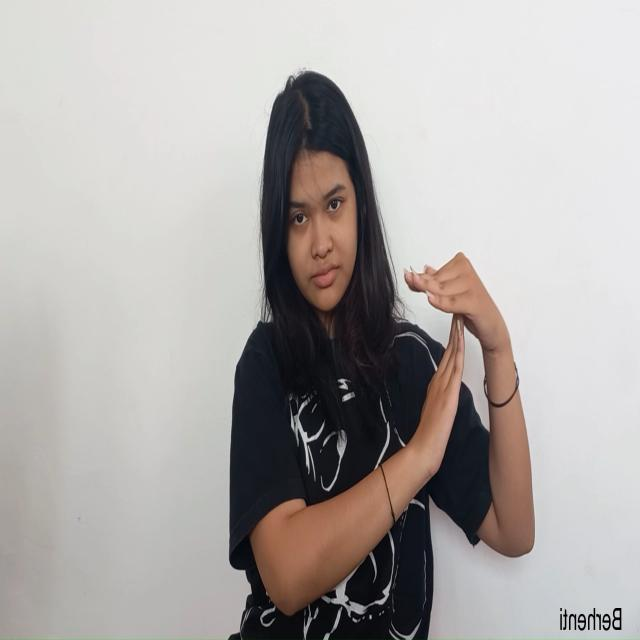Berhenti -BISINDO-: (401, 248, 521, 512)
